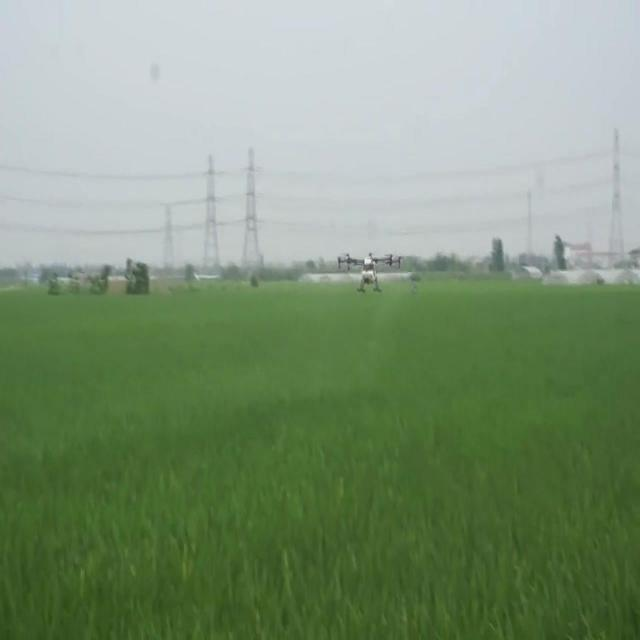UAV: (338, 252, 404, 292)
